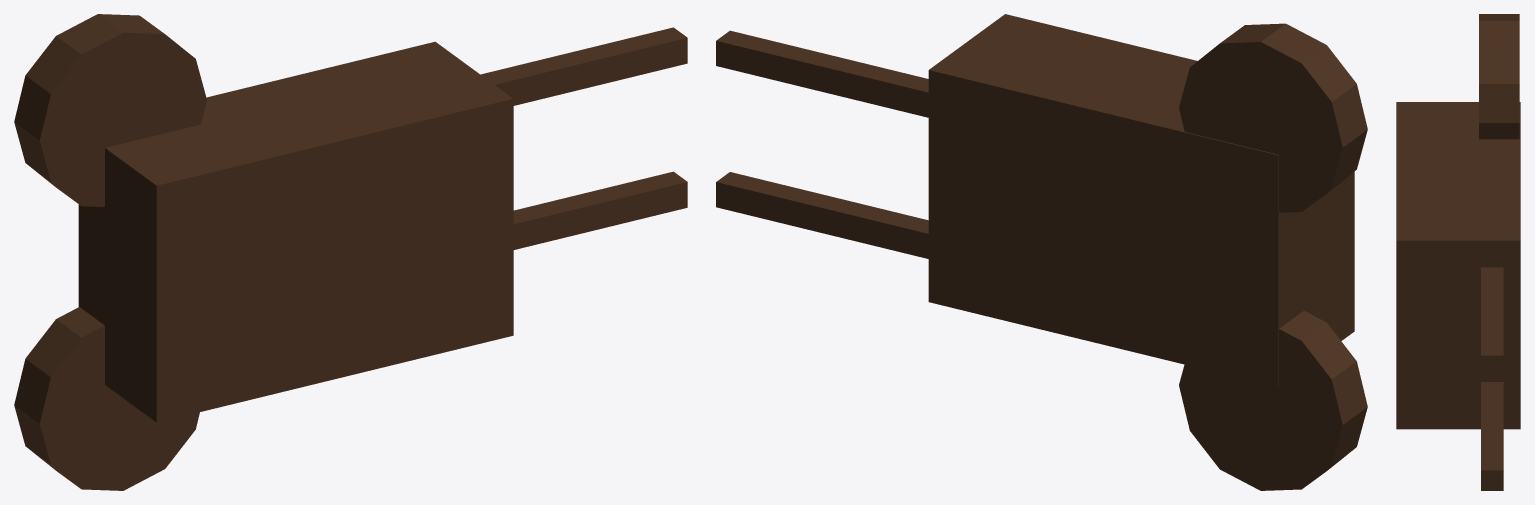
Rendered from SM_RoadTravelerCart.obj.
3 views of the same model, side by side, from view 1: azimuth 30°, elevation 25°; view 2: azimuth 150°, elevation 25°; view 3: azimuth 270°, elevation 25° (orthographic). The views are drawn at different scales.
Parts seen in each view (by area): view 1: SM_RoadTravelerCart; view 2: SM_RoadTravelerCart; view 3: SM_RoadTravelerCart.
Boxes of the visible parts, box(x1,y1,x2,y2) form: SM_RoadTravelerCart: box(14, 14, 687, 490); SM_RoadTravelerCart: box(716, 14, 1367, 490); SM_RoadTravelerCart: box(1396, 14, 1520, 490).
Bounding box in the file's own units: 264 × 178 × 55.
